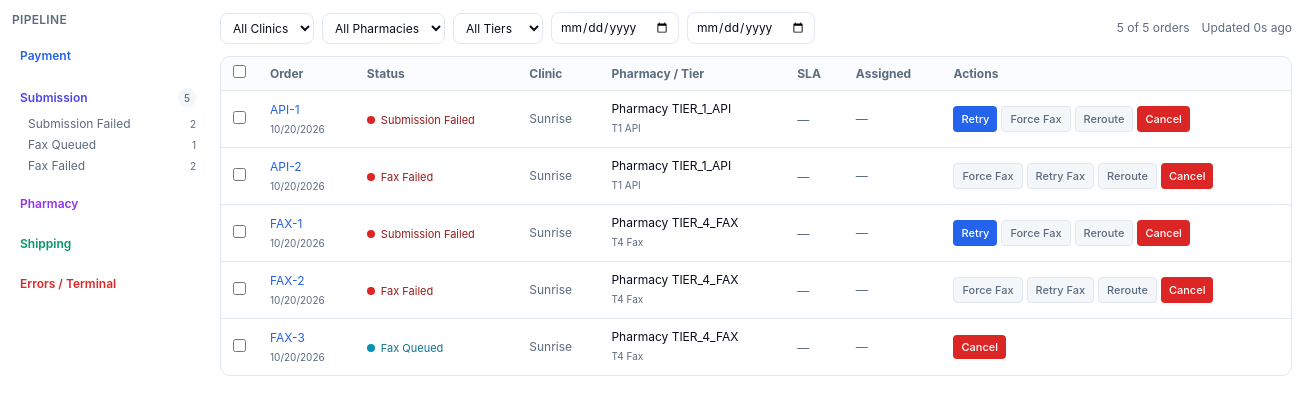
choosing a tier shows only that tier, asks the server for it, and puts it in the URL
The image size is (1304, 393).
Select "T4 Fax" in the dropdown named "Filter by integration tier": (498, 28) [453,12,543,44]
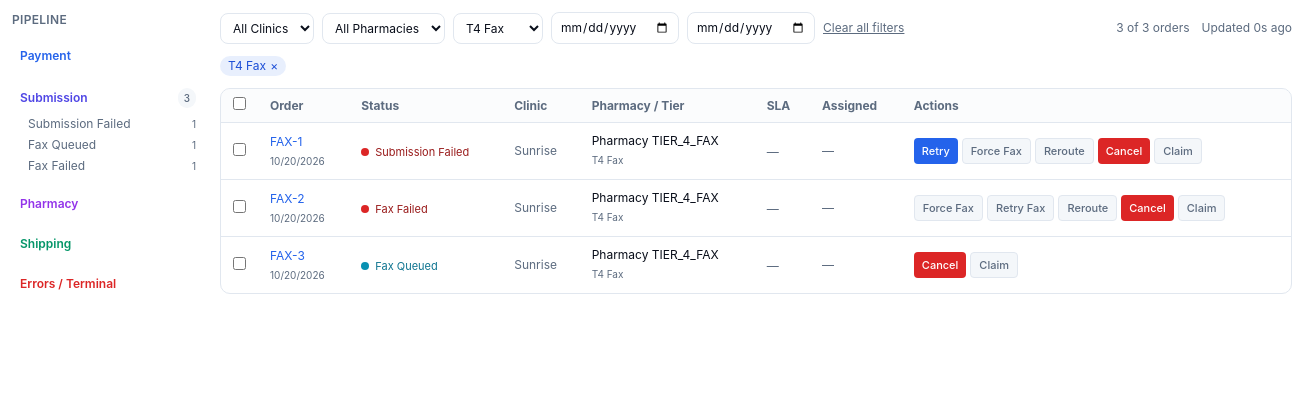
expect the text "3 of 3 orders" is shown: met, box [1116,20,1190,36]
